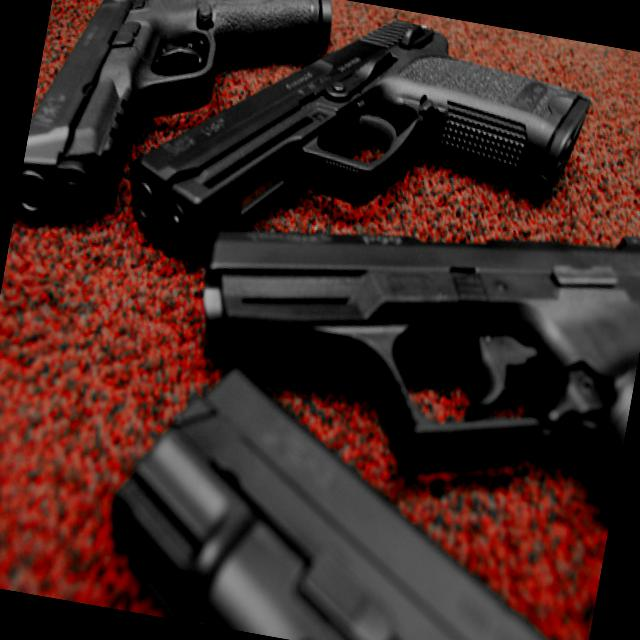handgun: (166, 152, 639, 540), (109, 0, 599, 330), (90, 340, 625, 639)
